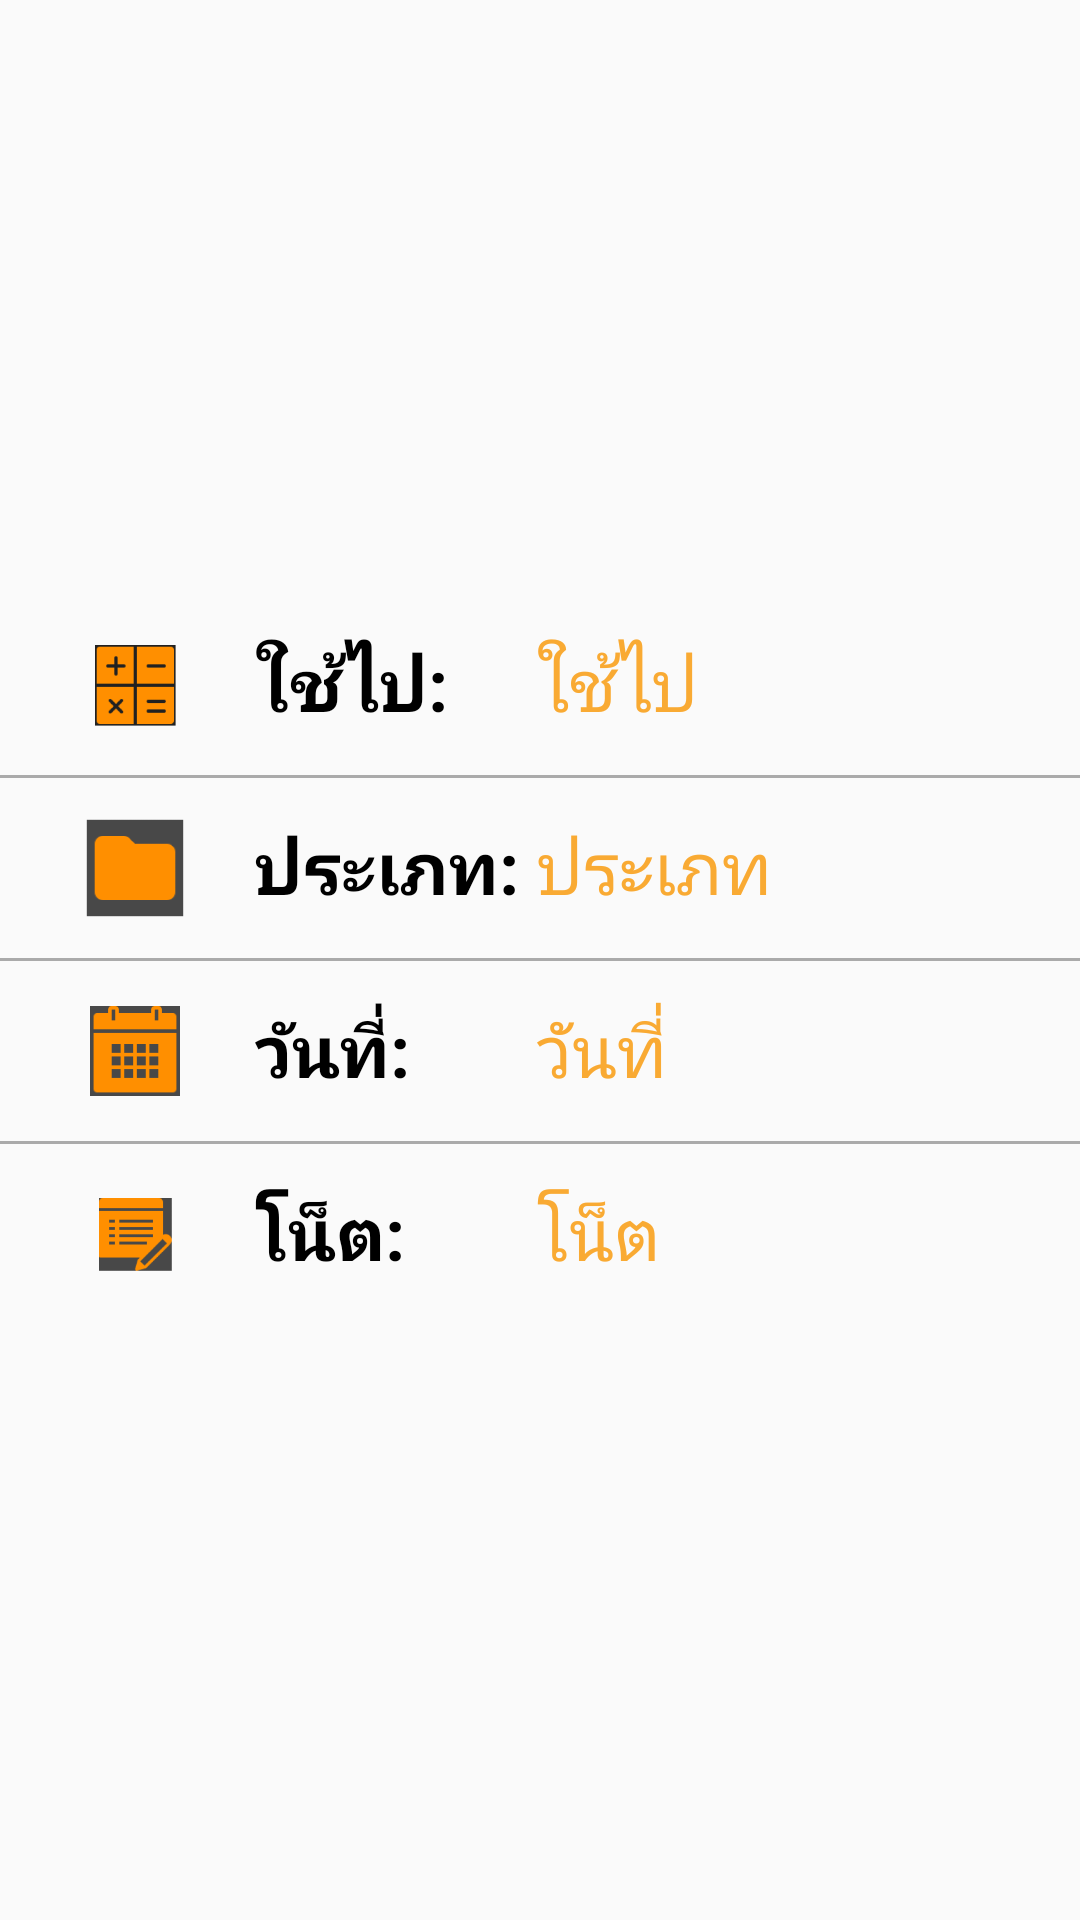

Screen size 1080x1920. Icon name, then its box in pixels as (x1, y1, x2, y2):
calendar: (90, 1006, 180, 1096)
folderimage: (86, 819, 184, 917)
notes: (99, 1198, 172, 1271)
